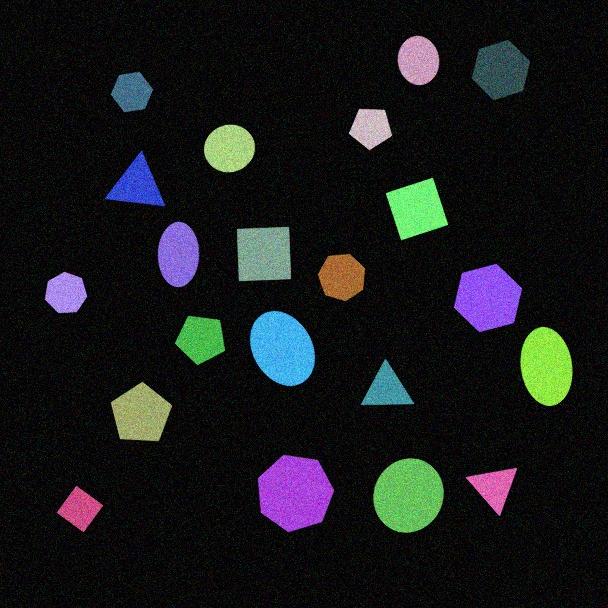Circulo: (372, 458, 445, 533), (203, 124, 256, 173), (397, 35, 440, 86)
Elipse: (249, 310, 316, 387), (520, 326, 573, 407), (157, 221, 200, 288)
Heptagono: (257, 454, 335, 533), (317, 253, 366, 302), (44, 271, 88, 314)
Hexagono: (453, 263, 523, 333), (471, 39, 531, 101), (110, 71, 154, 113)
Pentagono: (110, 381, 173, 442), (174, 315, 226, 366), (348, 108, 393, 151)
Quadrado: (385, 177, 449, 241), (236, 226, 292, 282), (56, 485, 104, 533)
Triangulo: (104, 151, 166, 207), (465, 467, 518, 517), (360, 359, 415, 406)
